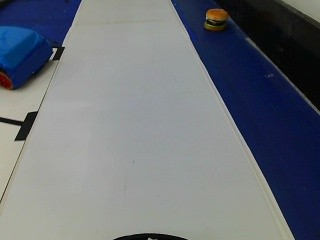burger: (198, 5, 235, 34)
